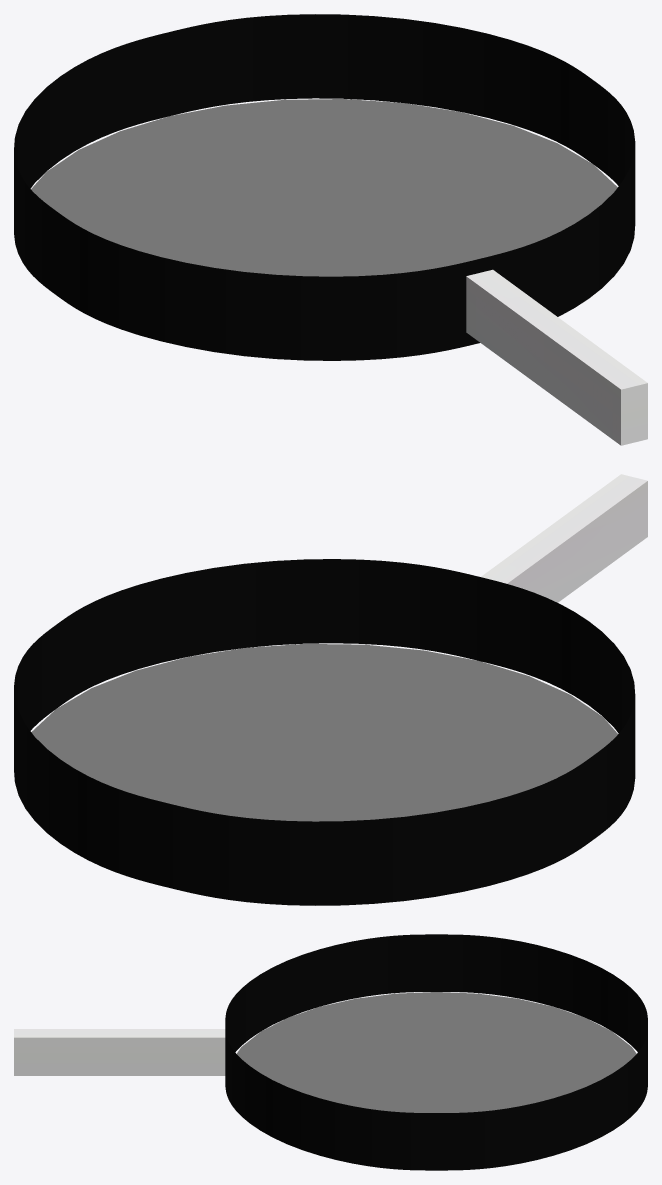
The model's file is enemy_weapon.obj.
3 views of the same model, one above another, from view 1: azimuth 30°, elevation 25°; view 2: azimuth 150°, elevation 25°; view 3: azimuth 270°, elevation 25° (orthographic). The views are drawn at different scales.
Parts seen in each view (by area): view 1: 曲面, 球體, 立方體_立方體.017; view 2: 曲面, 球體, 立方體_立方體.017; view 3: 曲面, 球體, 立方體_立方體.017.
Boxes of the visible parts, left/top/right/bottom form: 曲面: left=14, top=14, right=635, bottom=360; 球體: left=31, top=99, right=617, bottom=276; 立方體_立方體.017: left=466, top=269, right=647, bottom=445; 曲面: left=14, top=559, right=635, bottom=905; 球體: left=31, top=644, right=617, bottom=821; 立方體_立方體.017: left=481, top=474, right=647, bottom=602; 曲面: left=225, top=934, right=647, bottom=1170; 球體: left=236, top=992, right=636, bottom=1112; 立方體_立方體.017: left=14, top=1029, right=225, bottom=1075.
Bounding box in the file's own units: 2 × 0.3 × 3.
3 materials, 3 textured.
